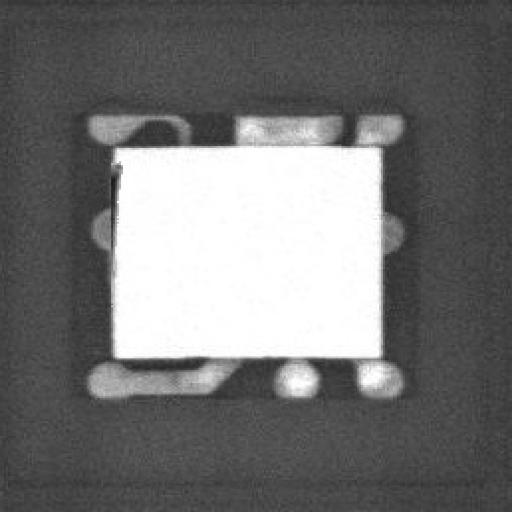DIE_BROKEN: (105, 156, 123, 262)
